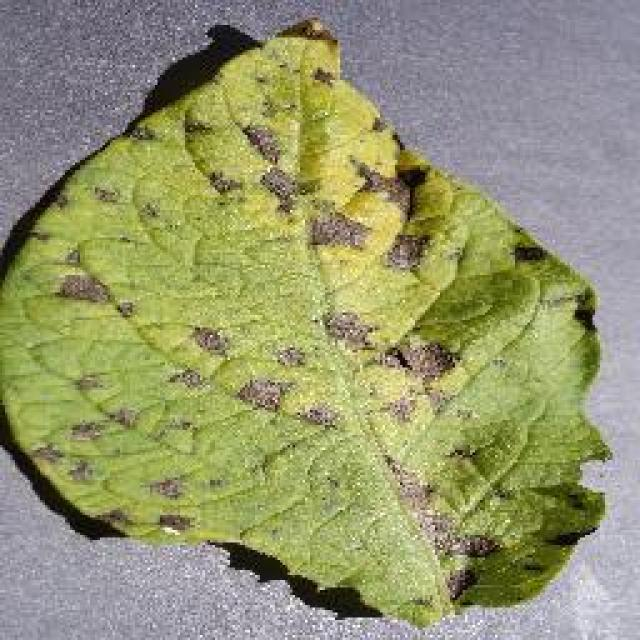early_blight: (0, 15, 612, 630)
